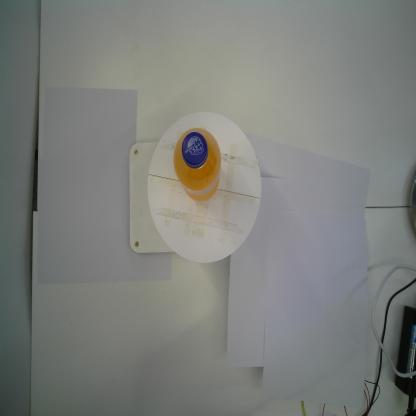Drink: (171, 126, 222, 205)
